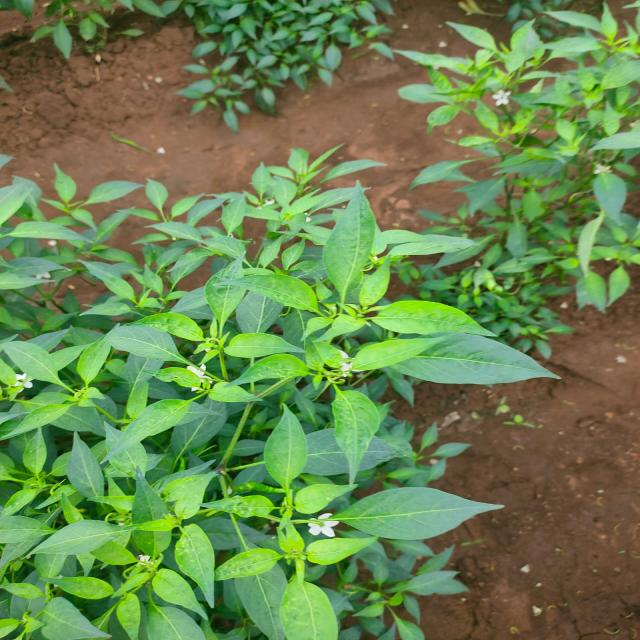Mosaic_virus: (0, 135, 469, 640), (428, 0, 640, 366), (102, 0, 434, 145)
